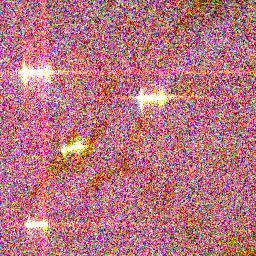Ship: (14, 62, 61, 83), (133, 86, 172, 108), (57, 140, 98, 156), (23, 214, 52, 233)
